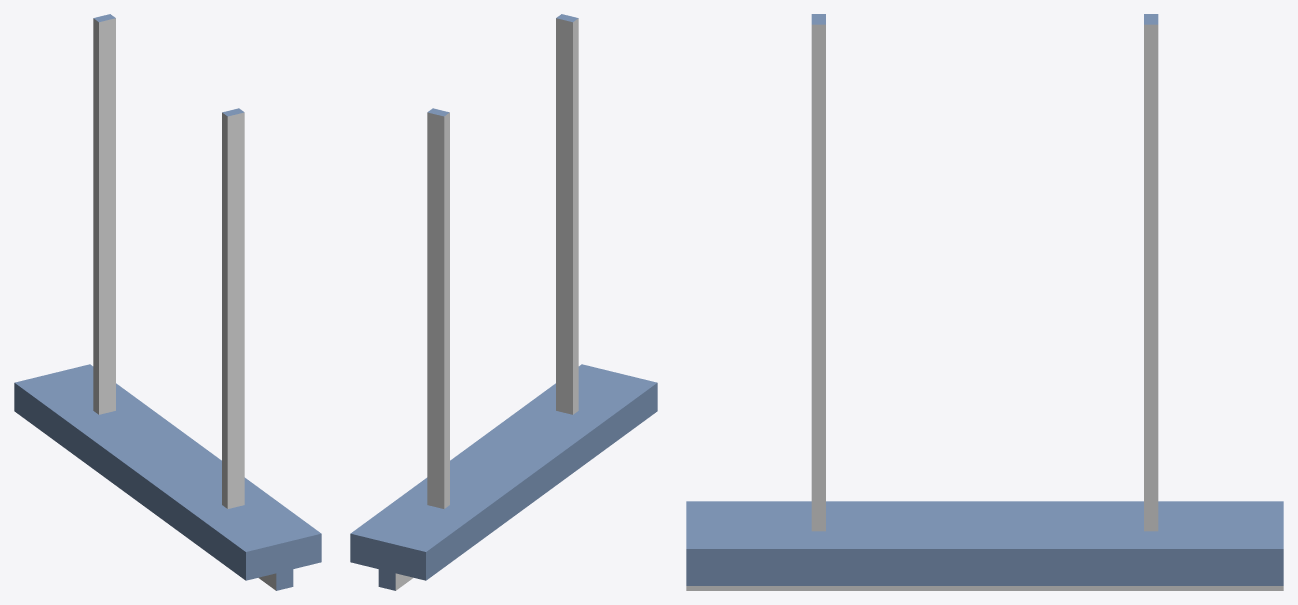
Rendered from Ceiling Light.fbx.
The picture shows the model from 3 angles, left to right: view 1: azimuth 30°, elevation 25°; view 2: azimuth 150°, elevation 25°; view 3: azimuth 270°, elevation 25°; orthographic projection. The views are drawn at different scales.
Visible parts, largest first — view 1: Cube; view 2: Cube; view 3: Cube.
Part boxes in pixels (x1,y1,x2,y2): Cube: (14,14,321,590); Cube: (350,14,657,590); Cube: (686,14,1283,590).
Bounding box in the file's own units: 200 × 1109 × 1060.
